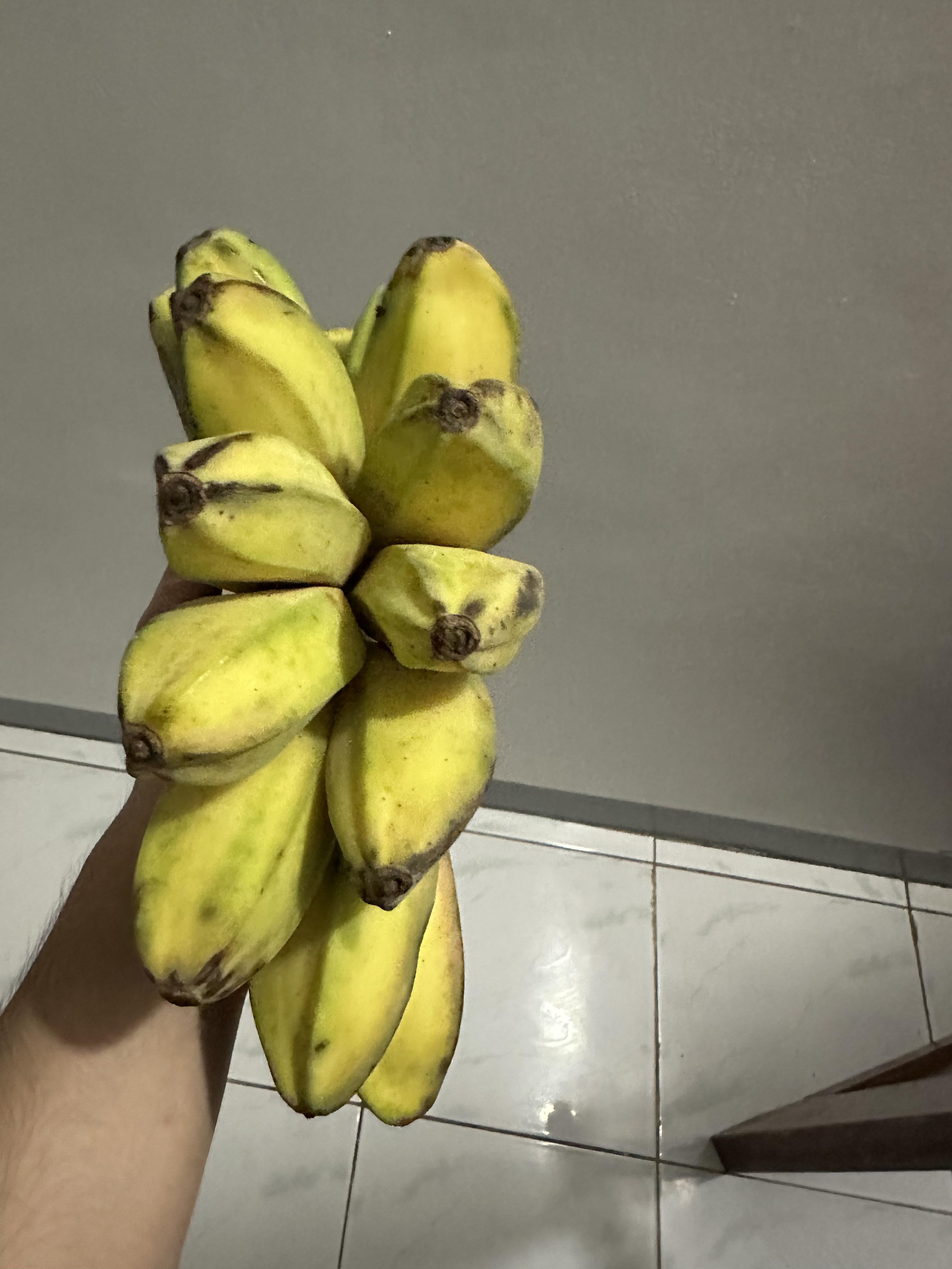underripe: (118, 229, 543, 1124)
